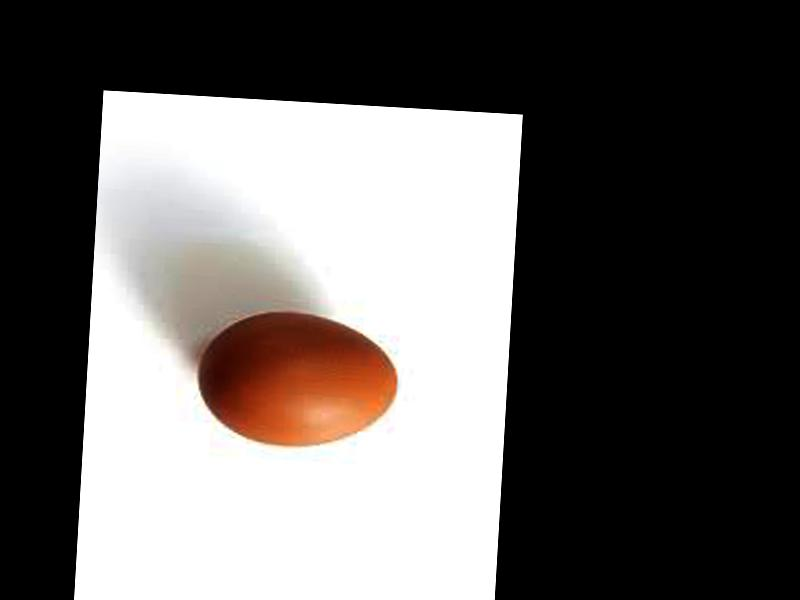Eggs: (195, 308, 402, 450)
